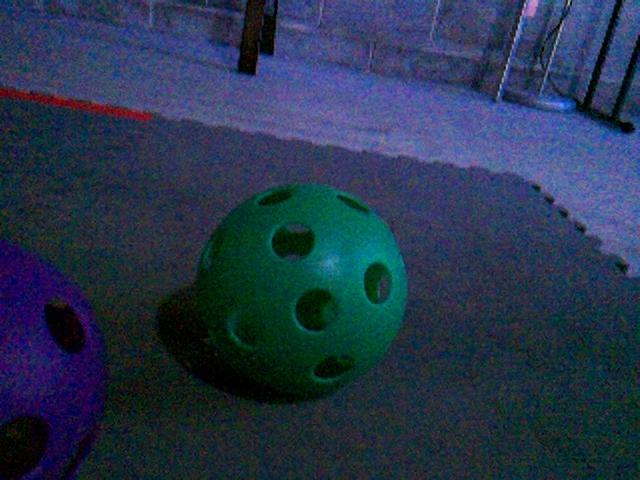Green: (180, 181, 408, 397)
Purple: (0, 246, 106, 477)
